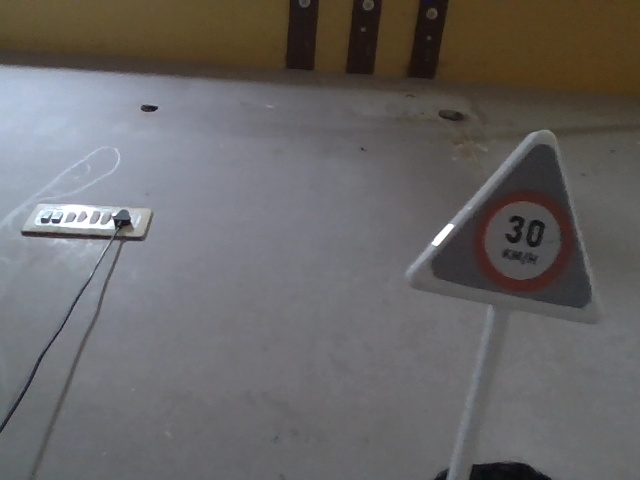speedlimit: (423, 140, 613, 335)
